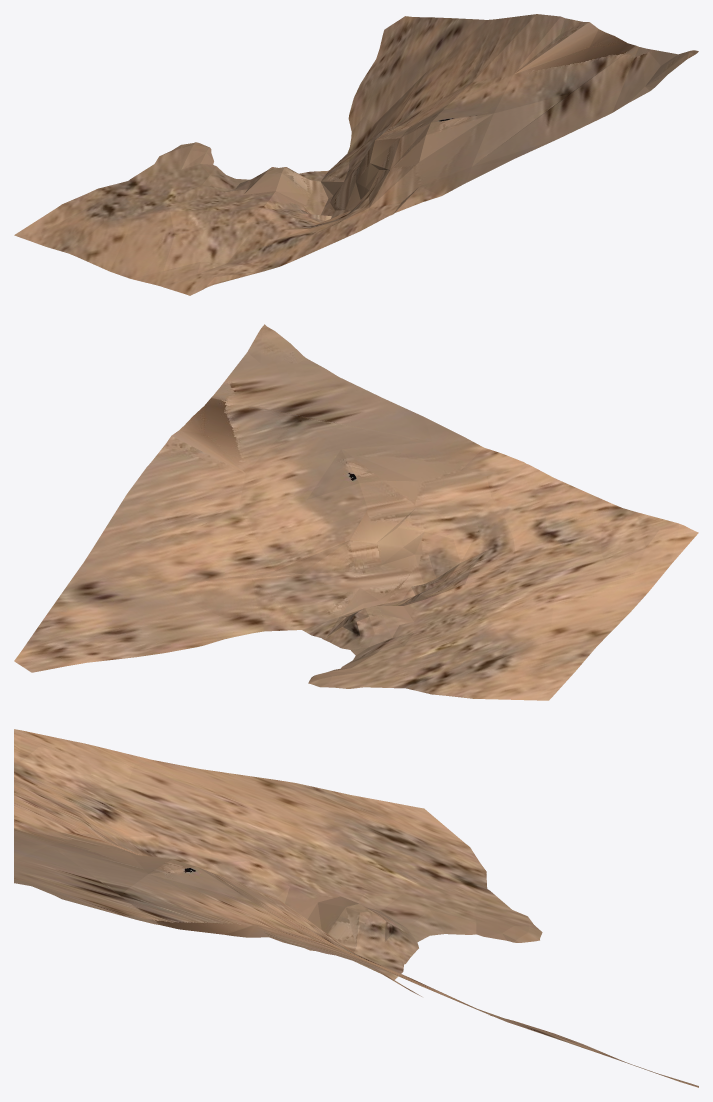
3 renders of one model, top to bottom at view 1: azimuth 30°, elevation 25°; view 2: azimuth 150°, elevation 25°; view 3: azimuth 270°, elevation 25°, orthographic. The views are drawn at different scales.
Bounding box in the file's own units: 1.04 × 0.3695 × 1.04.
2 materials, 2 textured.
